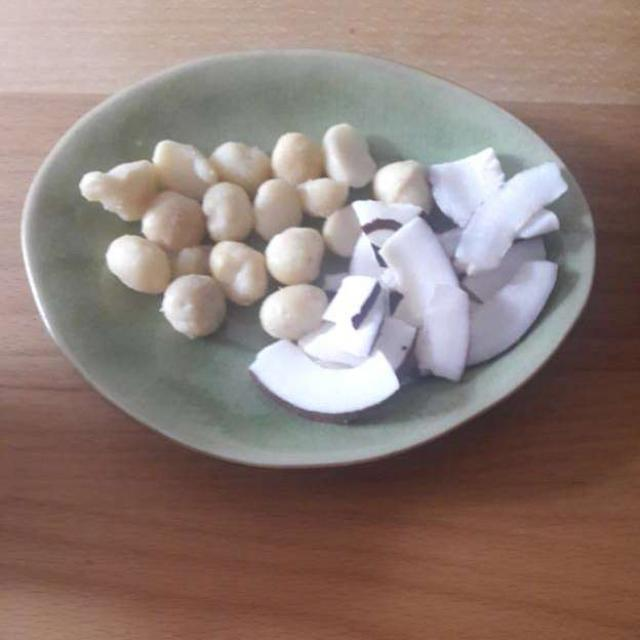coconut: (249, 151, 575, 417)
hazelnut: (78, 113, 438, 340)
